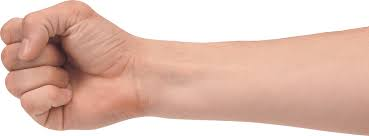fist: (6, 9, 141, 130)
